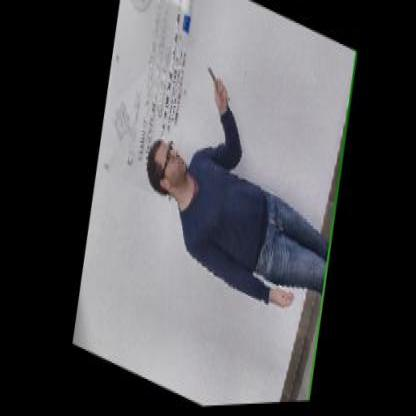knife: (198, 62, 234, 109)
